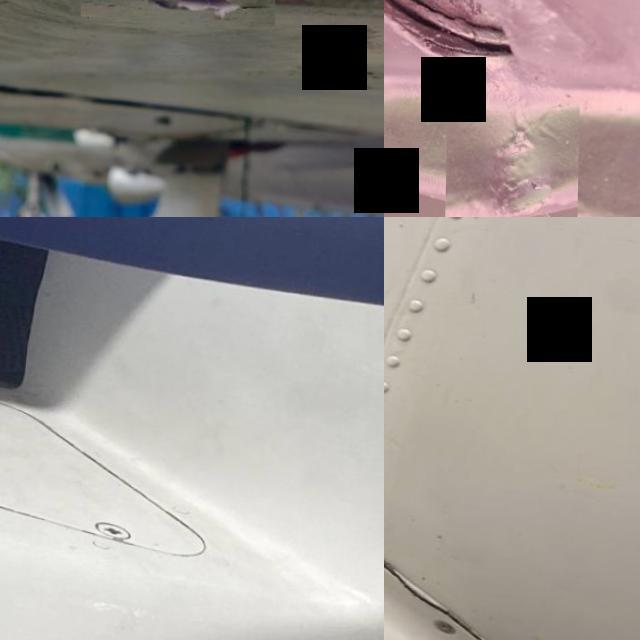Crack: (82, 0, 277, 26), (474, 606, 608, 640), (388, 562, 458, 613)
Dent: (446, 93, 581, 217)
